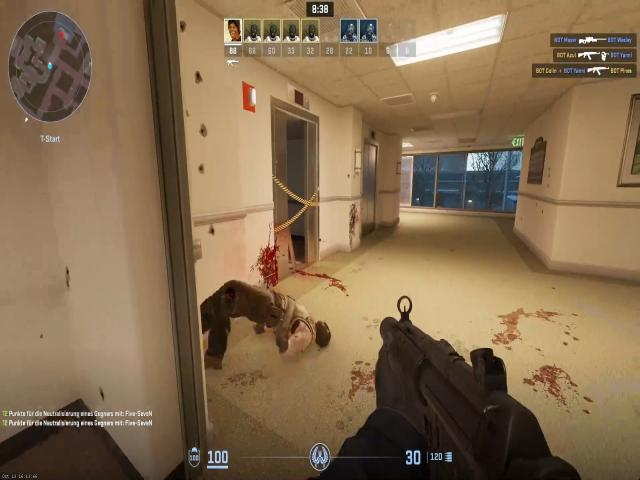Dead: (201, 284, 343, 350)
